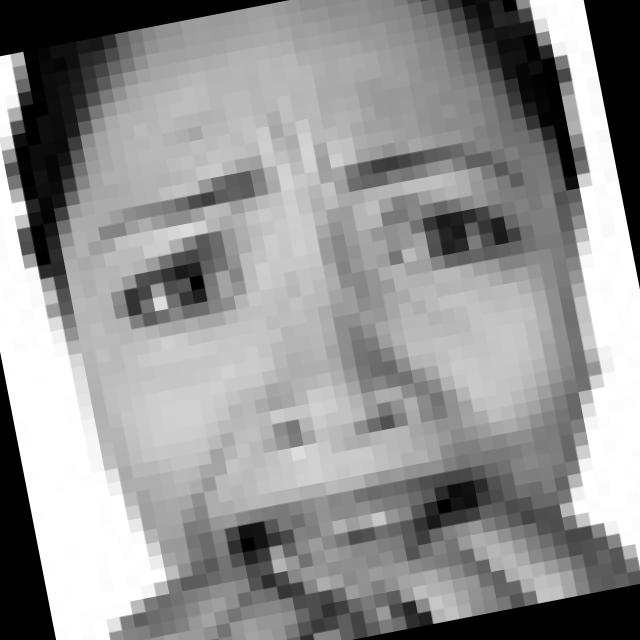fear: (70, 101, 595, 640)
